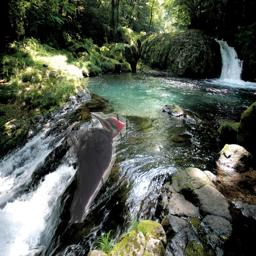Woodpecker: (67, 112, 126, 223)
